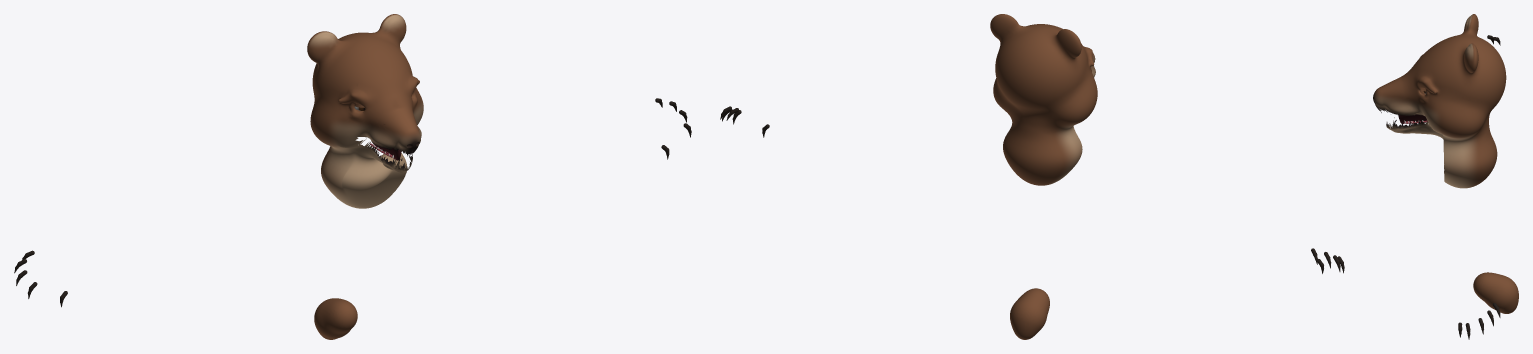
File: female_bear.glb
3 renders of one model, left to right at view 1: azimuth 30°, elevation 25°; view 2: azimuth 150°, elevation 25°; view 3: azimuth 270°, elevation 25°, orthographic. The views are drawn at different scales.
Parts seen in each view (by area): view 1: AnimalHead, AnimalTail; view 2: AnimalHead, AnimalTail; view 3: AnimalHead, AnimalTail.
Boxes of the visible parts, left/top/right/bottom form: AnimalHead: left=307, top=14, right=423, bottom=208; AnimalTail: left=314, top=298, right=357, bottom=339; AnimalHead: left=990, top=14, right=1097, bottom=185; AnimalTail: left=1010, top=288, right=1049, bottom=339; AnimalHead: left=1373, top=14, right=1506, bottom=188; AnimalTail: left=1473, top=272, right=1518, bottom=313.
Size of the model in its own units: 1.59 by 0.7423 by 0.343.
